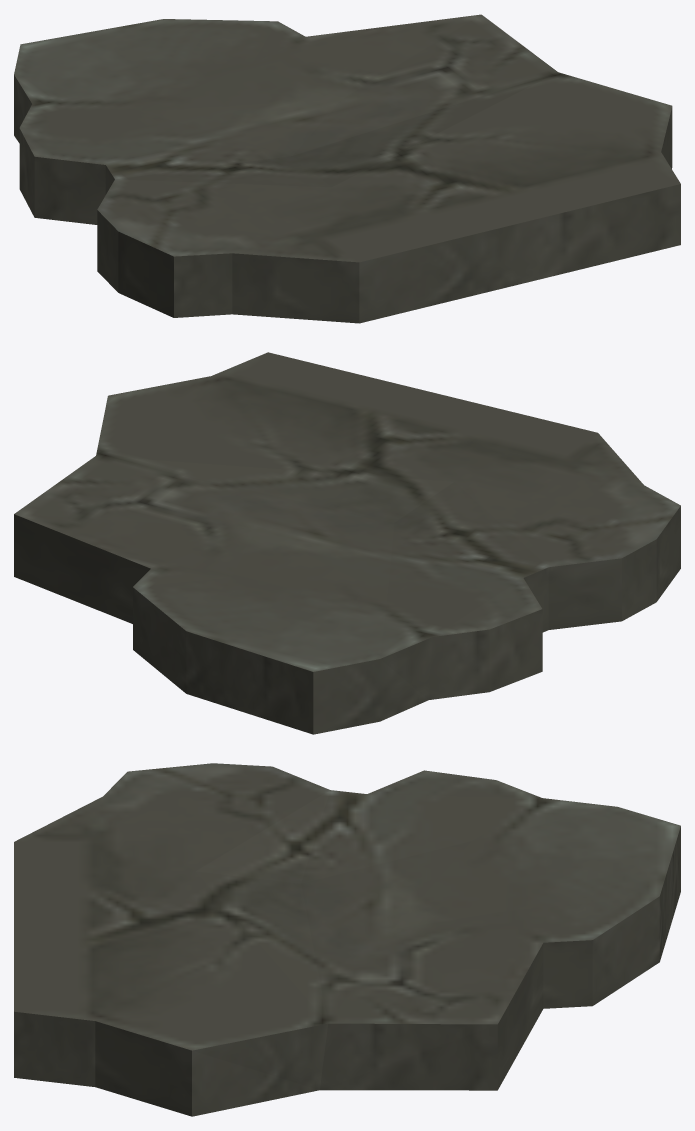
Rendered from break_house_25.fbx.
The picture shows the model from 3 angles, top to bottom: view 1: azimuth 30°, elevation 25°; view 2: azimuth 150°, elevation 25°; view 3: azimuth 270°, elevation 25°; orthographic projection. The views are drawn at different scales.
Parts seen in each view (by area): view 1: break_house_25; view 2: break_house_25; view 3: break_house_25.
Boxes of the visible parts, x1,y1,x2,y2 form: break_house_25: [14, 14, 680, 323]; break_house_25: [14, 352, 680, 734]; break_house_25: [14, 763, 680, 1116].
Size of the model in its own units: 449 by 48.45 by 440.
Materials: 1 (1 with a texture image).
